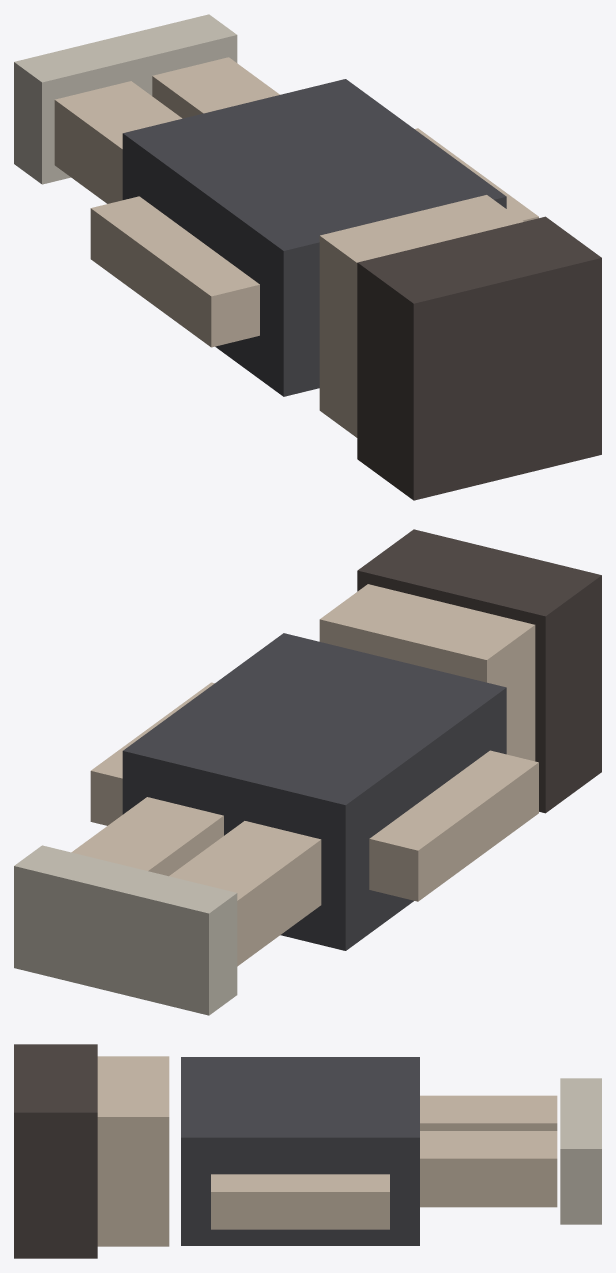
File: lego_style_character.glb
3 views of the same model, one above another, from view 1: azimuth 30°, elevation 25°; view 2: azimuth 150°, elevation 25°; view 3: azimuth 270°, elevation 25° (orthographic). The views are drawn at different scales.
Parts seen in each view (by area): view 1: world; view 2: world; view 3: world.
Part boxes in pixels (x1=…): world: x1=14, y1=14, x2=601, y2=500; world: x1=14, y1=529, x2=601, y2=1015; world: x1=14, y1=1044, x2=601, y2=1258.
Bounding box in the file's own units: 2.35 × 1.35 × 4.93.
